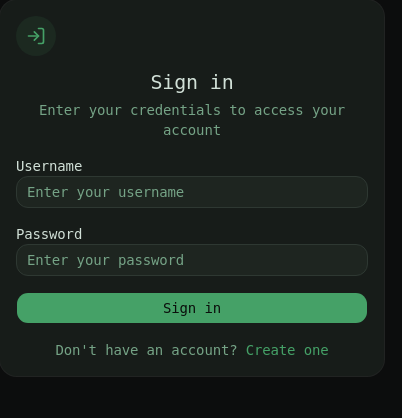
login page › shows validation error for short username
In the field labelled "Username": (192, 192) [16,176,368,208], type "ab"
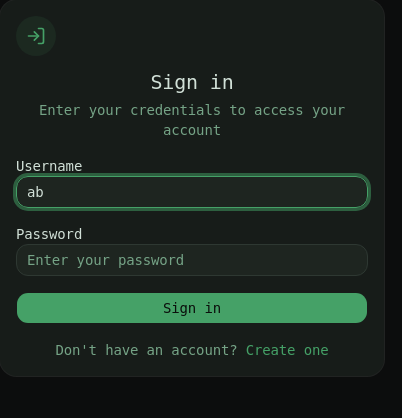
In the password field labelled "Password": (192, 260) [16,244,368,276], type "123456"
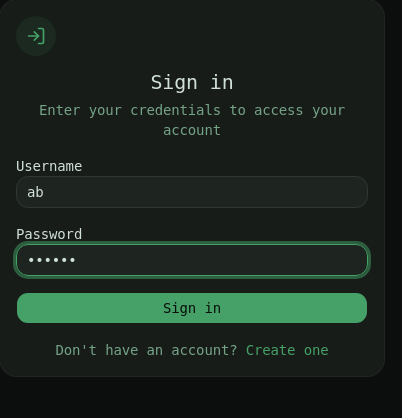
Click the button "Sign in": (192, 308) [16,292,368,324]
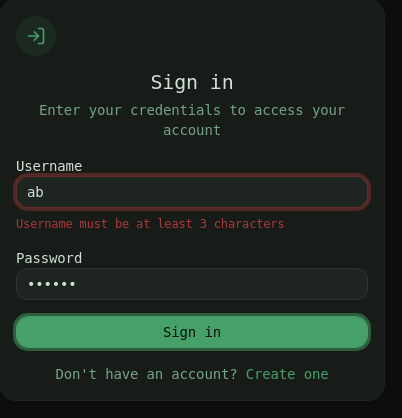
Expected: the text "Username must be at least 3 characters" is shown, [16,217,284,231]
